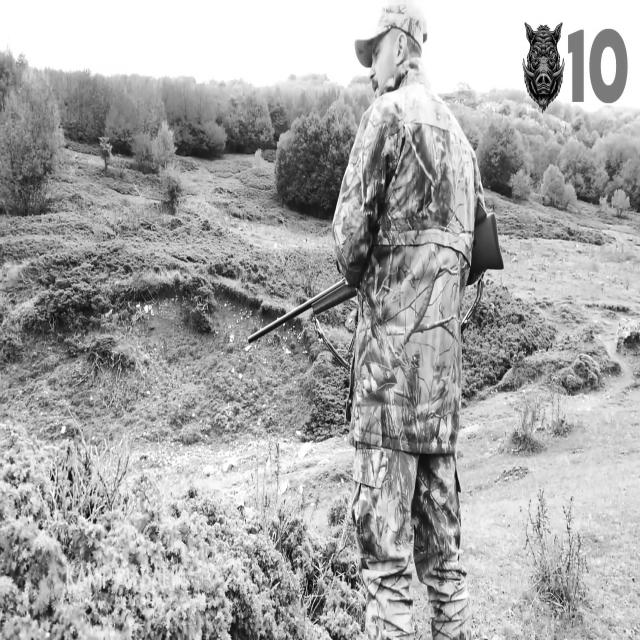boar: (522, 23, 564, 111)
monkey: (332, 0, 483, 638)
